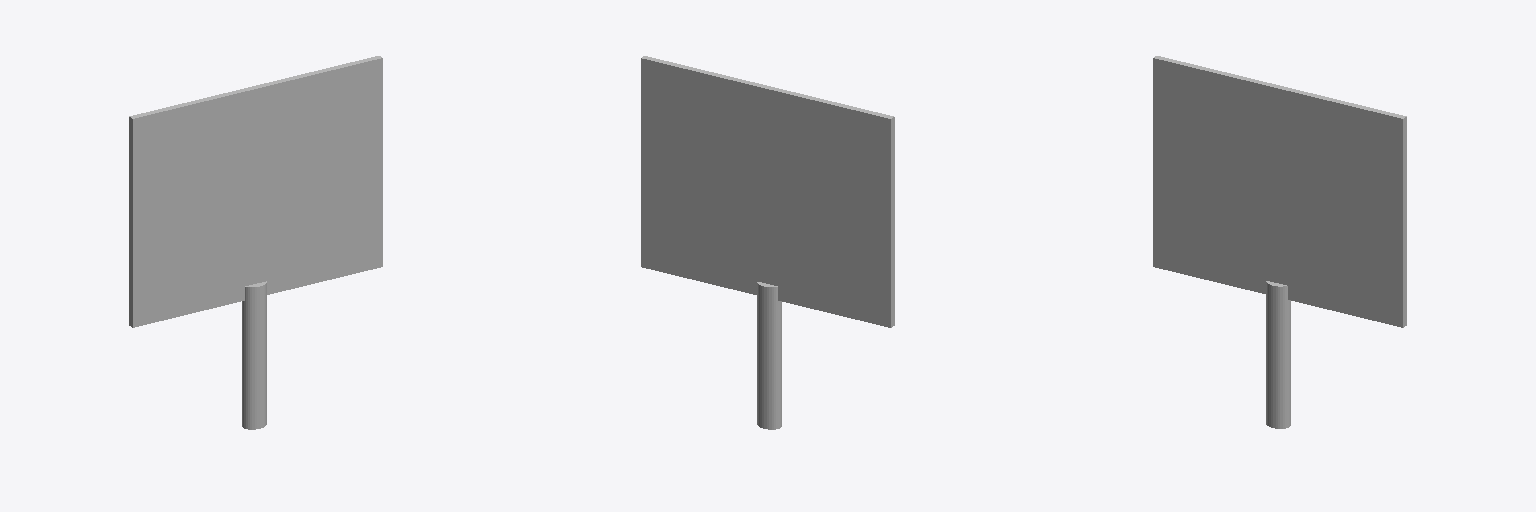
Rendered from plas.obj.
The picture shows the model from 3 angles: view 1: azimuth 30°, elevation 25°; view 2: azimuth 150°, elevation 25°; view 3: azimuth 330°, elevation 25°; orthographic projection.
Parts seen in each view (by area): view 1: Cube.004_Cube.002; view 2: Cube.004_Cube.002; view 3: Cube.004_Cube.002.
Part boxes in pixels (left/top/right/bottom): Cube.004_Cube.002: left=129, top=56, right=382, bottom=429; Cube.004_Cube.002: left=641, top=56, right=894, bottom=429; Cube.004_Cube.002: left=1153, top=56, right=1406, bottom=428.
Bounding box in the file's own units: 0.2225 × 0.2869 × 0.0162.